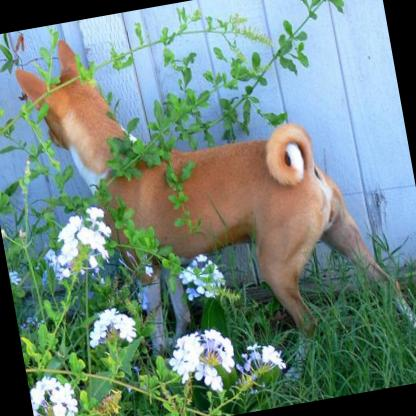basenji: (8, 0, 416, 416)
